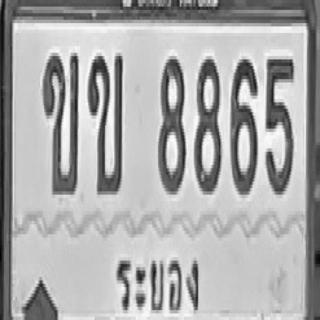A02: (87, 51, 123, 193), (42, 51, 78, 193)
N05: (265, 56, 294, 194)
N06: (230, 56, 257, 194)
N08: (158, 56, 185, 191), (194, 56, 221, 191)
P53: (110, 242, 208, 320)
